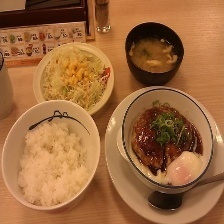rice: (13, 119, 96, 209)
